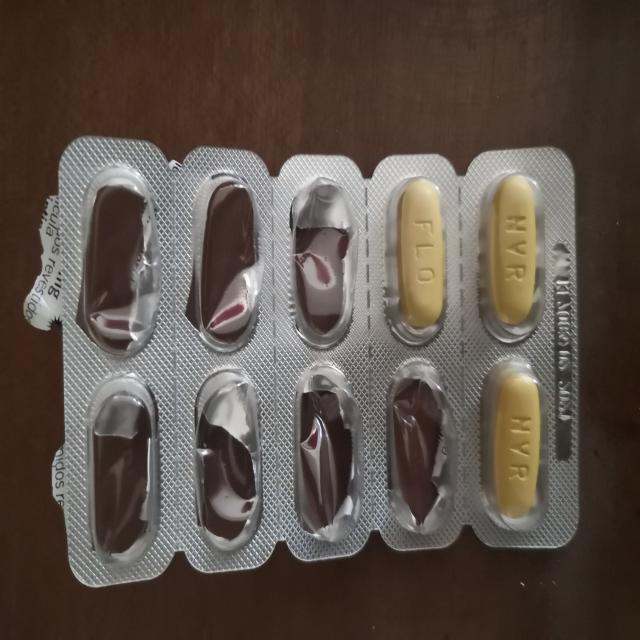Empty: (78, 370, 167, 577), (74, 154, 159, 359), (180, 167, 270, 356), (187, 359, 263, 560), (290, 357, 370, 547), (382, 352, 457, 548), (284, 173, 358, 352)
Pill: (382, 176, 456, 346), (476, 169, 544, 344), (482, 352, 548, 532)
